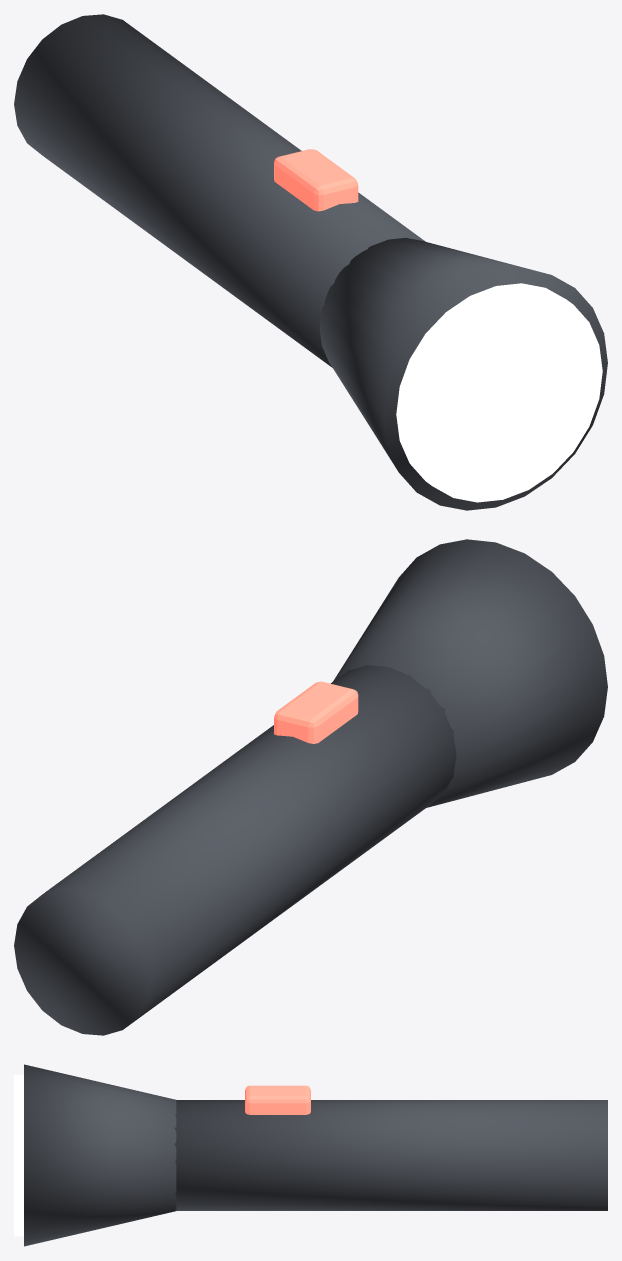
Rendered from flashlight_handheld.glb.
3 views of the same model, one above another, from view 1: azimuth 30°, elevation 25°; view 2: azimuth 150°, elevation 25°; view 3: azimuth 270°, elevation 25° (orthographic). The views are drawn at different scales.
Visible parts, largest first — view 1: Barrel, FrontLens, HeadBezel, ThumbSwitch; view 2: Barrel, HeadBezel, ThumbSwitch; view 3: Barrel, HeadBezel, ThumbSwitch, FrontLens.
Boxes of the visible parts, left/top/right/bottom form: Barrel: left=14, top=14, right=425, bottom=367; FrontLens: left=396, top=283, right=602, bottom=502; HeadBezel: left=319, top=237, right=607, bottom=510; ThumbSwitch: left=274, top=149, right=358, bottom=211; Barrel: left=14, top=664, right=456, bottom=1035; HeadBezel: left=333, top=539, right=607, bottom=807; ThumbSwitch: left=274, top=681, right=358, bottom=743; Barrel: left=174, top=1100, right=607, bottom=1210; HeadBezel: left=24, top=1064, right=176, bottom=1246; ThumbSwitch: left=245, top=1085, right=310, bottom=1114; FrontLens: left=14, top=1074, right=23, bottom=1236.
Size of the model in its own units: 0.072 by 0.072 by 0.234.
